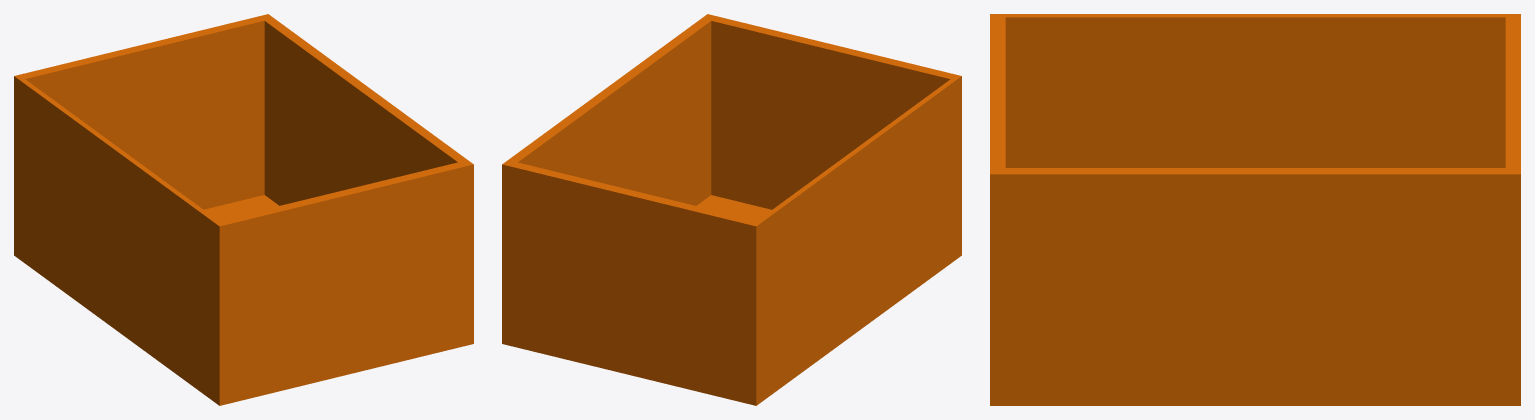
The model's file is Koopbinnenkant - Copy.fbx.
3 views of the same model, side by side, from view 1: azimuth 30°, elevation 25°; view 2: azimuth 150°, elevation 25°; view 3: azimuth 270°, elevation 25° (orthographic). The views are drawn at different scales.
Parts seen in each view (by area): view 1: Cube.001; view 2: Cube.001; view 3: Cube.001.
Boxes of the visible parts, bbox=[...] form: Cube.001: bbox=[14, 14, 473, 405]; Cube.001: bbox=[502, 14, 961, 405]; Cube.001: bbox=[990, 14, 1520, 405].
Bounding box in the file's own units: 10000 × 6745 × 14000.
